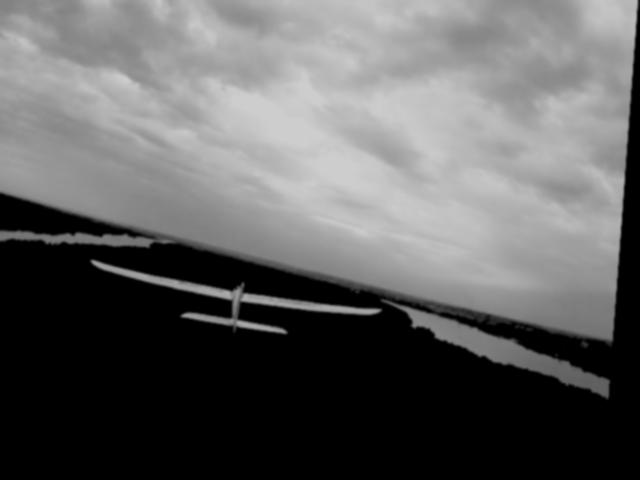hedef: (74, 224, 404, 376)
